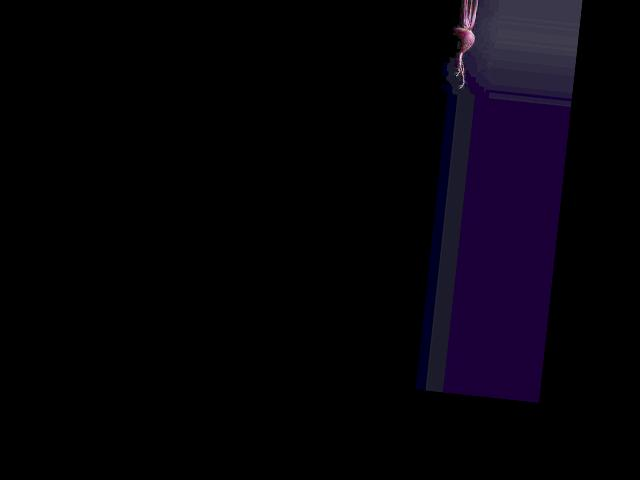beet: (446, 2, 479, 89)
